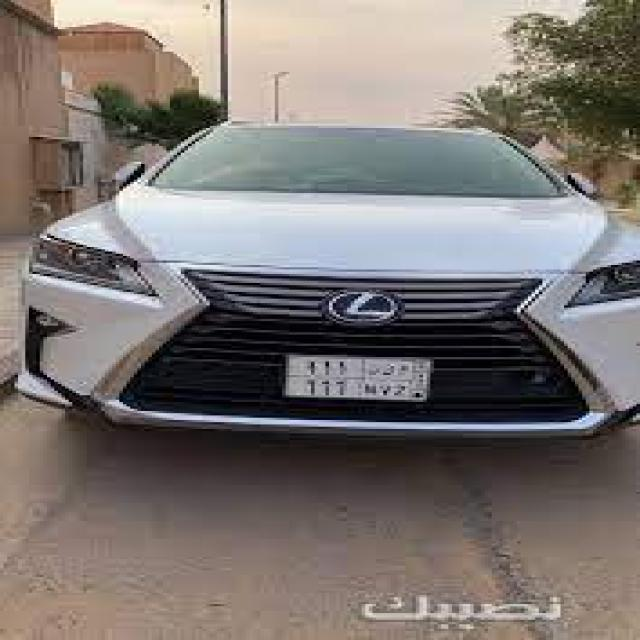license_plate: (282, 350, 434, 404)
